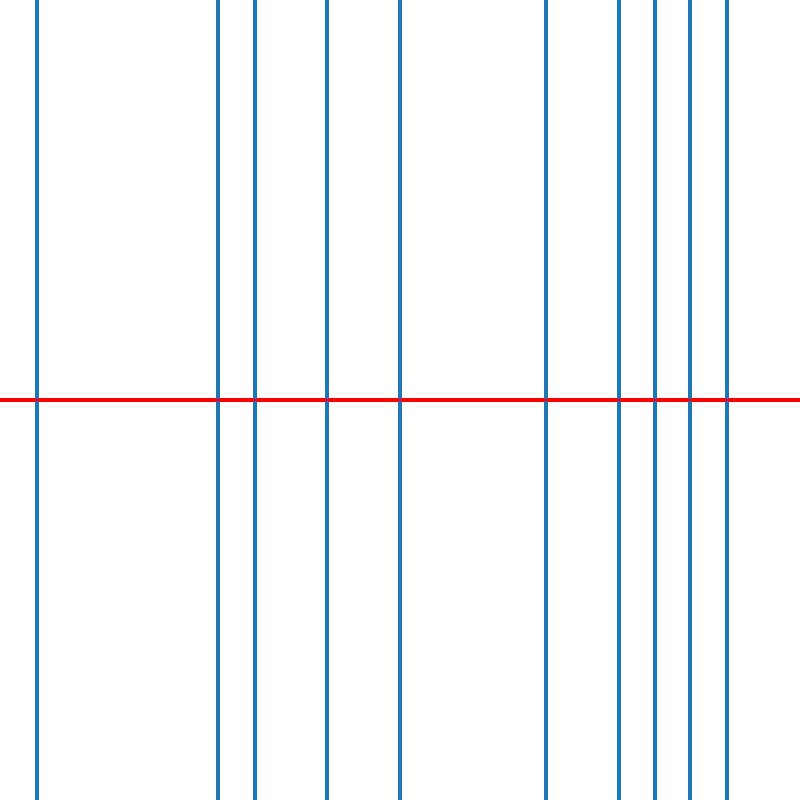root: (650, 396, 658, 404), (250, 396, 258, 404), (541, 396, 549, 404), (32, 396, 40, 404), (614, 396, 621, 404), (687, 396, 694, 404), (396, 396, 403, 404), (323, 396, 330, 404), (723, 396, 730, 404), (214, 396, 221, 404)
